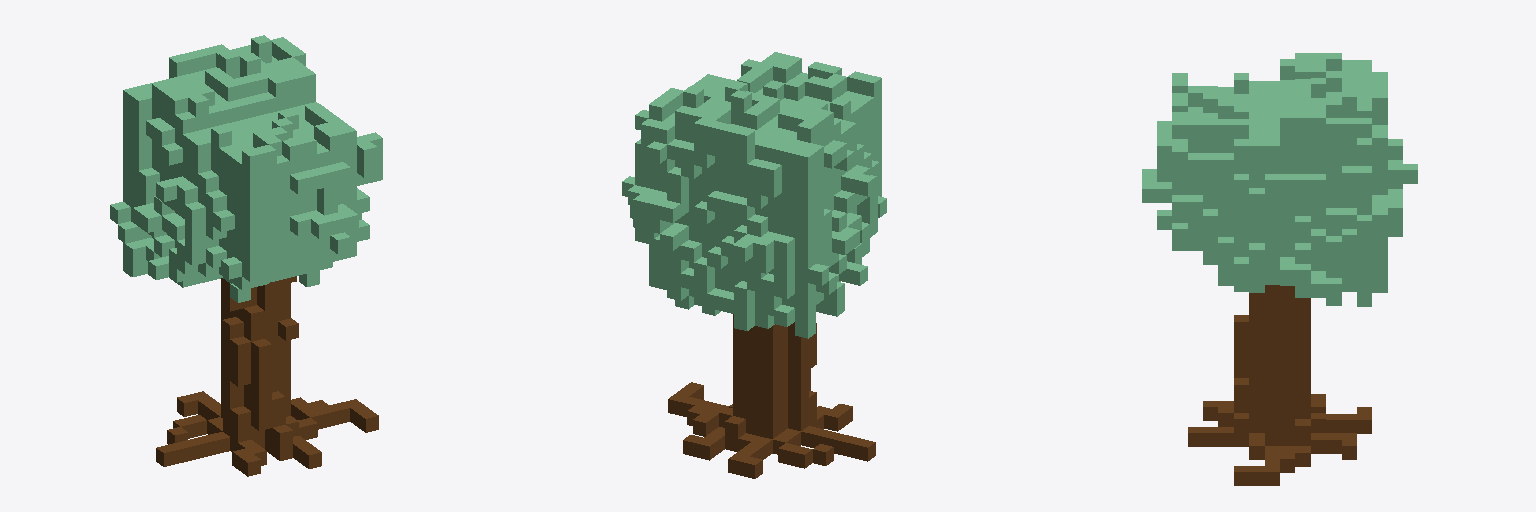
3 renders of one model, left to right at view 1: azimuth 30°, elevation 25°; view 2: azimuth 150°, elevation 25°; view 3: azimuth 270°, elevation 25°, orthographic.
Parts seen in each view (by area): view 1: Model; view 2: Model; view 3: Model.
Boxes of the visible parts, x1=… form: Model: x1=110, y1=35, x2=382, y2=476; Model: x1=622, y1=52, x2=886, y2=478; Model: x1=1142, y1=53, x2=1417, y2=485.
Size of the model in its own units: 15 by 26 by 18.
Materials: 1 (1 with a texture image).